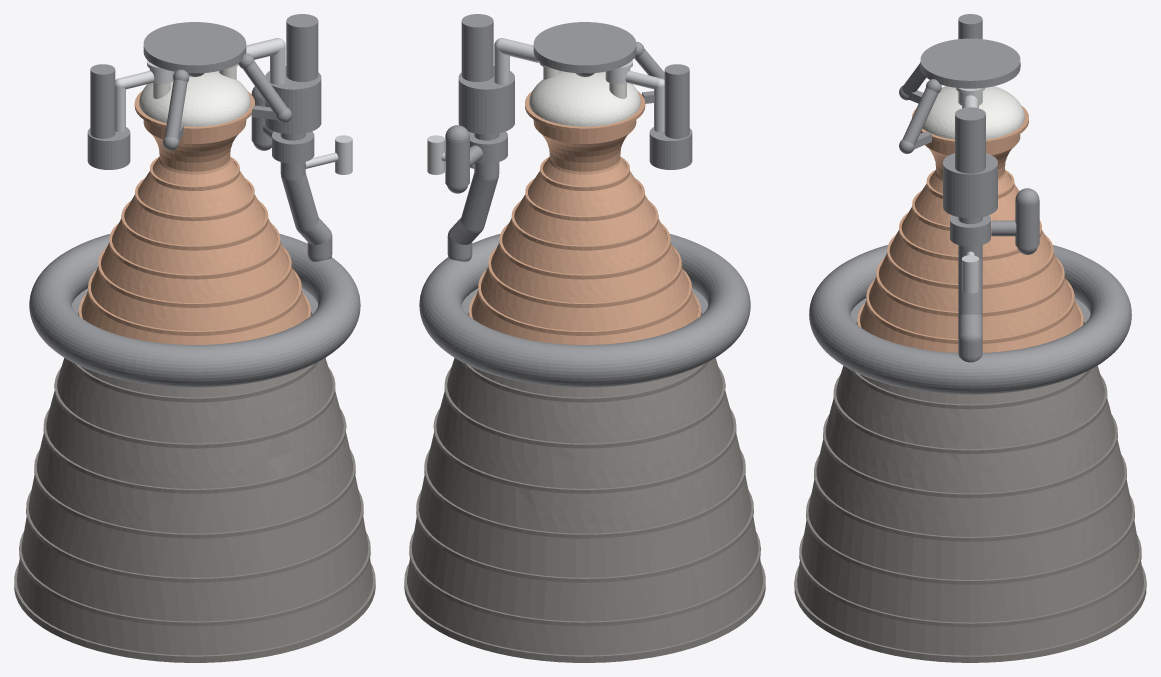
The model's file is ENG_J2.glb.
The picture shows the model from 3 angles, left to right: view 1: azimuth 30°, elevation 25°; view 2: azimuth 150°, elevation 25°; view 3: azimuth 270°, elevation 25°; orthographic projection. The views are drawn at different scales.
Visible parts, largest first — view 1: ENG-J2-020, ENG-J2-010, ENG-J2-050, ENG-J2-040, ENG-J2-060, ENG-J2-030, ENG-J2-070; view 2: ENG-J2-020, ENG-J2-010, ENG-J2-050, ENG-J2-040, ENG-J2-060, ENG-J2-030, ENG-J2-070; view 3: ENG-J2-020, ENG-J2-050, ENG-J2-010, ENG-J2-040, ENG-J2-060, ENG-J2-030, ENG-J2-070.
Part boxes in pixels (left/top/right/bottom): ENG-J2-020: left=14, top=358, right=375, bottom=662; ENG-J2-010: left=78, top=91, right=311, bottom=344; ENG-J2-050: left=29, top=86, right=360, bottom=387; ENG-J2-040: left=87, top=14, right=321, bottom=169; ENG-J2-060: left=143, top=22, right=291, bottom=150; ENG-J2-030: left=139, top=67, right=250, bottom=126; ENG-J2-070: left=115, top=38, right=352, bottom=174; ENG-J2-020: left=404, top=358, right=765, bottom=662; ENG-J2-010: left=468, top=90, right=701, bottom=344; ENG-J2-050: left=419, top=125, right=750, bottom=387; ENG-J2-040: left=458, top=14, right=692, bottom=169; ENG-J2-060: left=533, top=22, right=664, bottom=103; ENG-J2-030: left=529, top=67, right=640, bottom=126; ENG-J2-070: left=427, top=38, right=664, bottom=174; ENG-J2-020: left=794, top=366, right=1146, bottom=662; ENG-J2-050: left=809, top=188, right=1131, bottom=394; ENG-J2-010: left=857, top=106, right=1083, bottom=352; ENG-J2-040: left=943, top=14, right=997, bottom=246; ENG-J2-060: left=899, top=38, right=1020, bottom=153; ENG-J2-030: left=922, top=86, right=1024, bottom=139; ENG-J2-070: left=956, top=88, right=984, bottom=293.
Bounding box in the file's own units: 2.04 × 3.38 × 2.04.
Materials: 4 (4 with a texture image).
